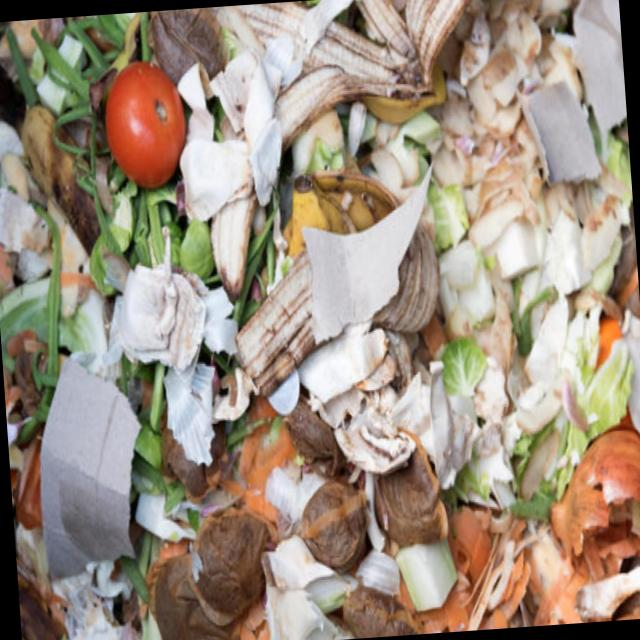paper: (218, 0, 480, 122), (99, 35, 196, 165), (560, 412, 640, 561), (179, 503, 272, 615), (292, 460, 370, 578)
